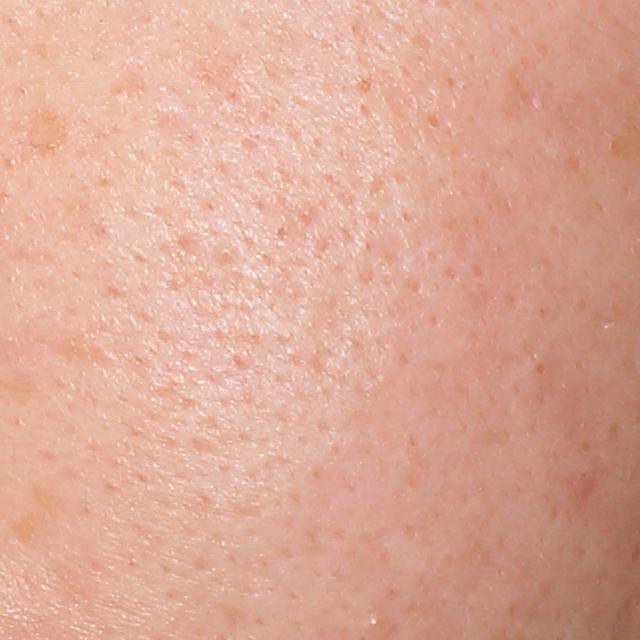comedo: (532, 357, 552, 382), (368, 612, 386, 629)
